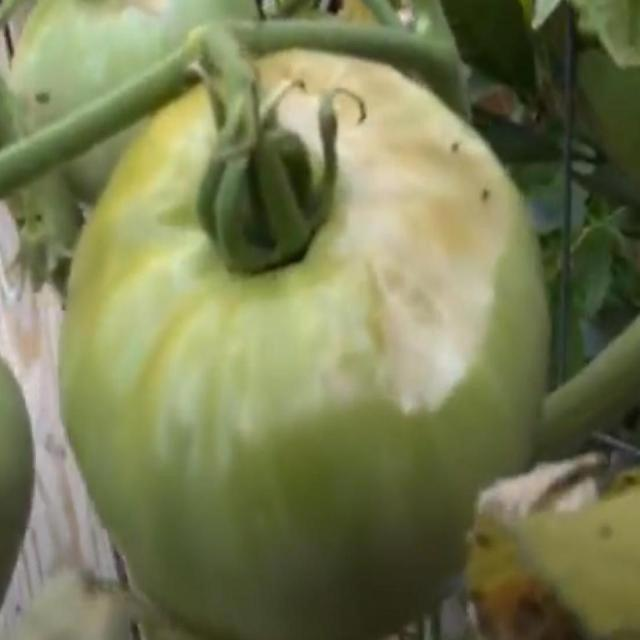Sunscald Fruit: (170, 35, 354, 290)
